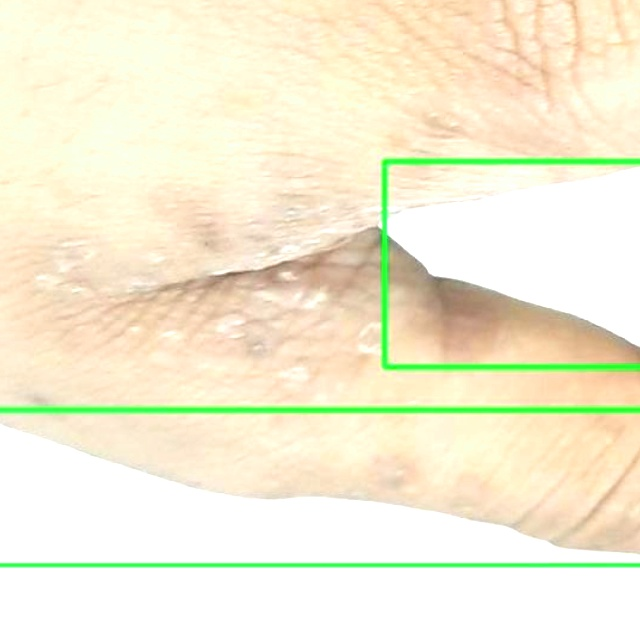Scabies: (0, 0, 639, 565), (0, 410, 639, 639), (384, 161, 639, 367)
